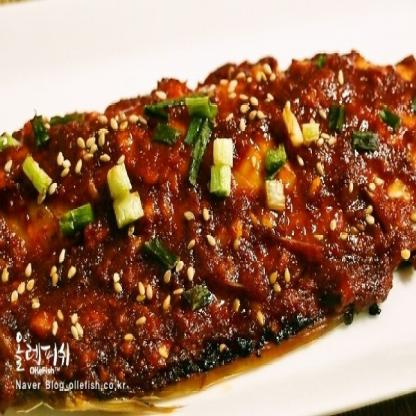Peixe: (0, 44, 416, 412)
